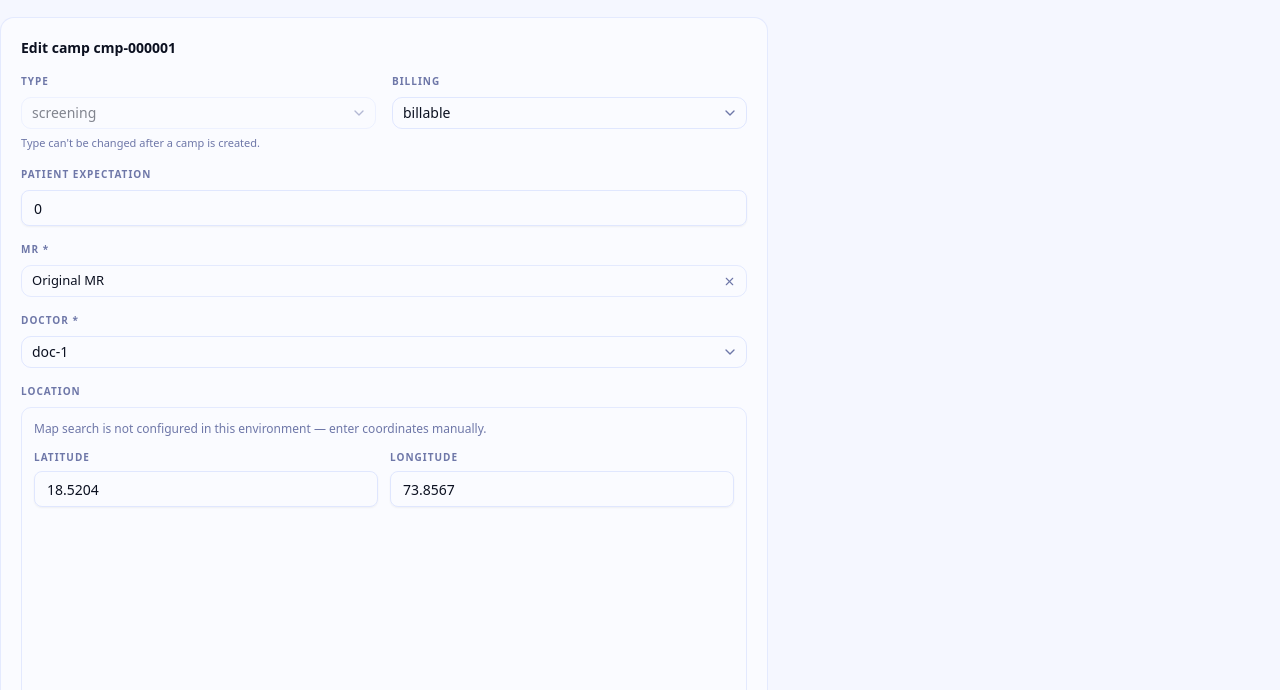
Test: CampEditPageReal — MR field › clearing the MR then saving shows validation and sends no update request
Expected: the heading "Edit camp cmp-000001" is shown, [21,38,176,56]
Click the text "Original MR" at [68, 280], box [32,271,104,289]
(page scrolled)
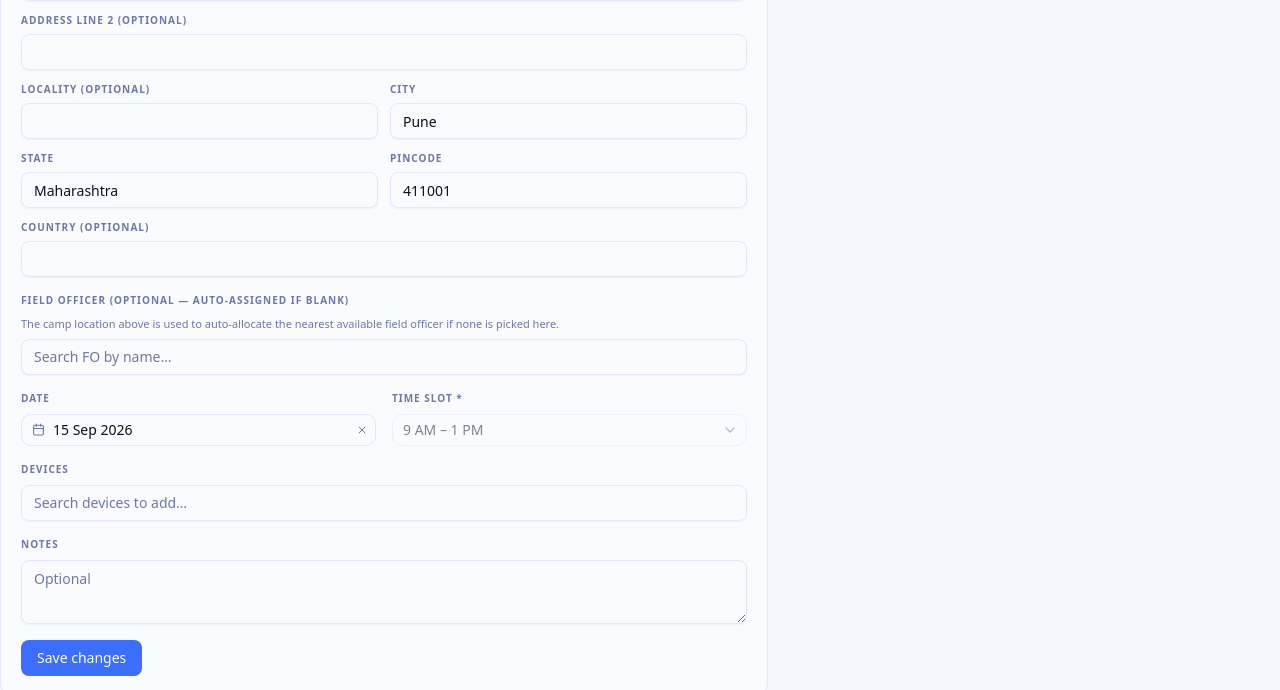
Now the text "Original MR" is gone
Click the button "Save changes" at [82, 658], box [21,640,142,676]
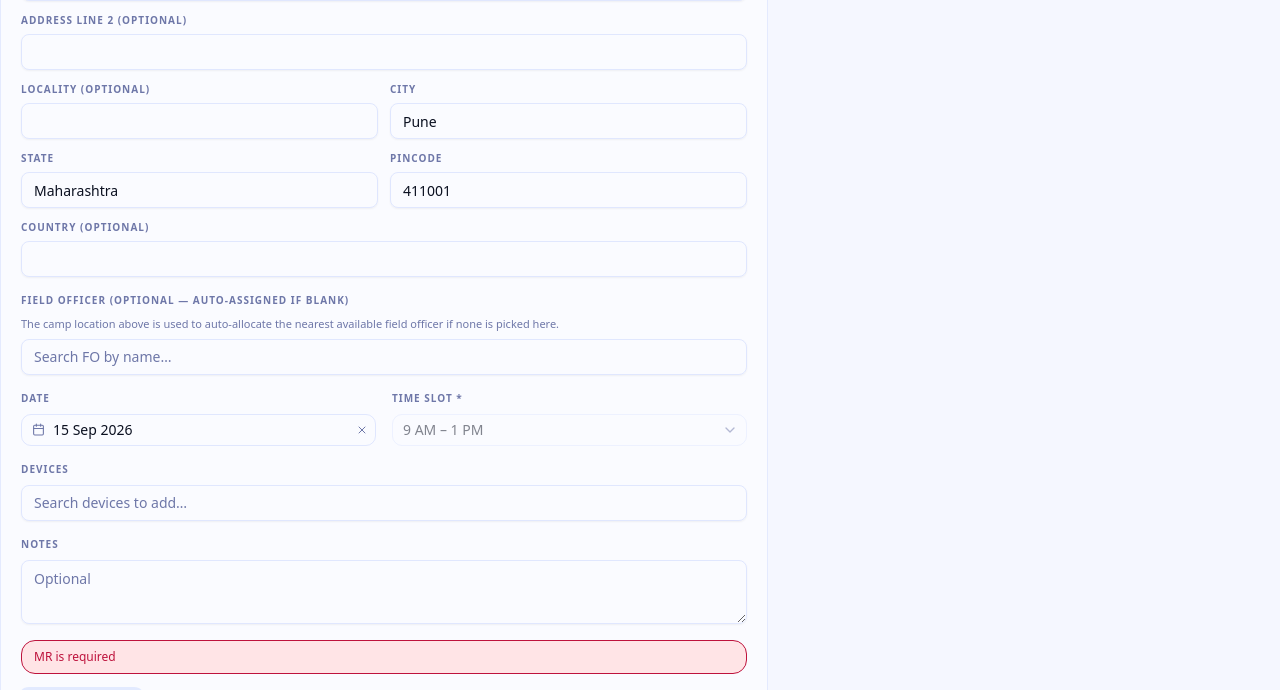
Now the text "MR is required" is shown, box [21,640,747,674]
